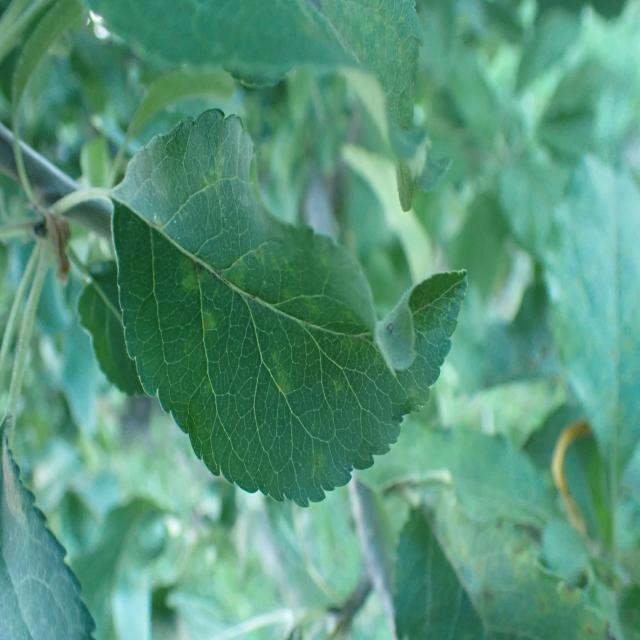scab: (114, 145, 421, 449), (412, 466, 632, 640)
